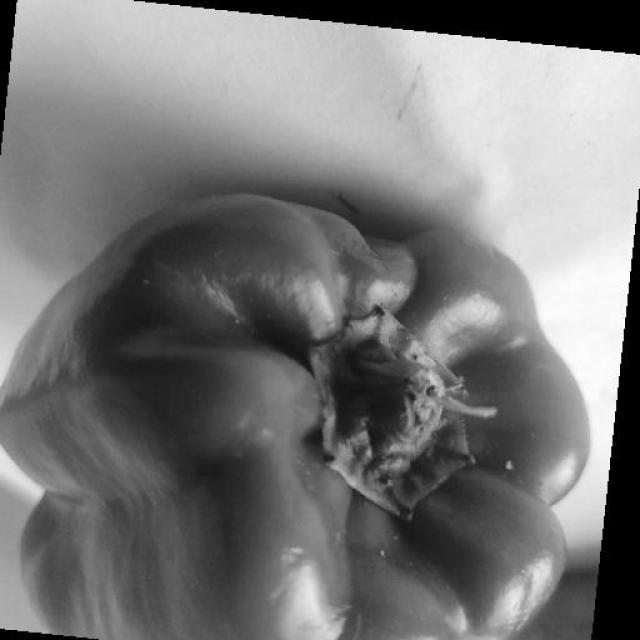Fresh_Capsicum: (115, 87, 583, 640)
